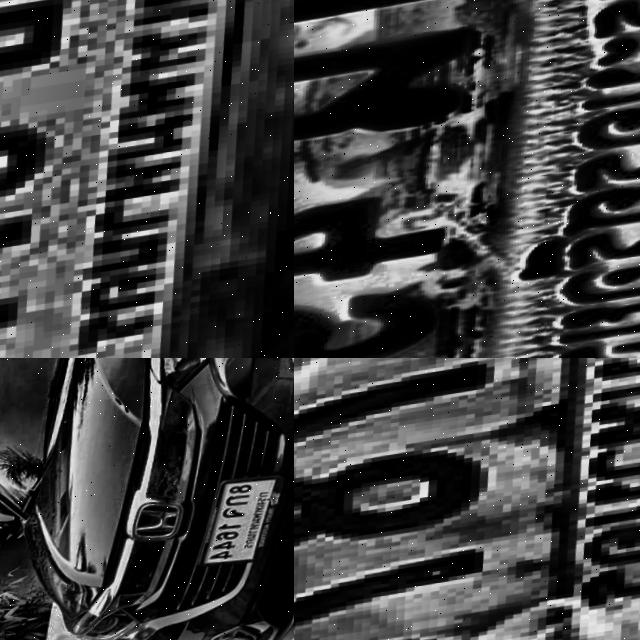license-plate: (294, 0, 640, 358), (0, 0, 294, 358), (294, 358, 640, 640), (205, 479, 294, 580)
